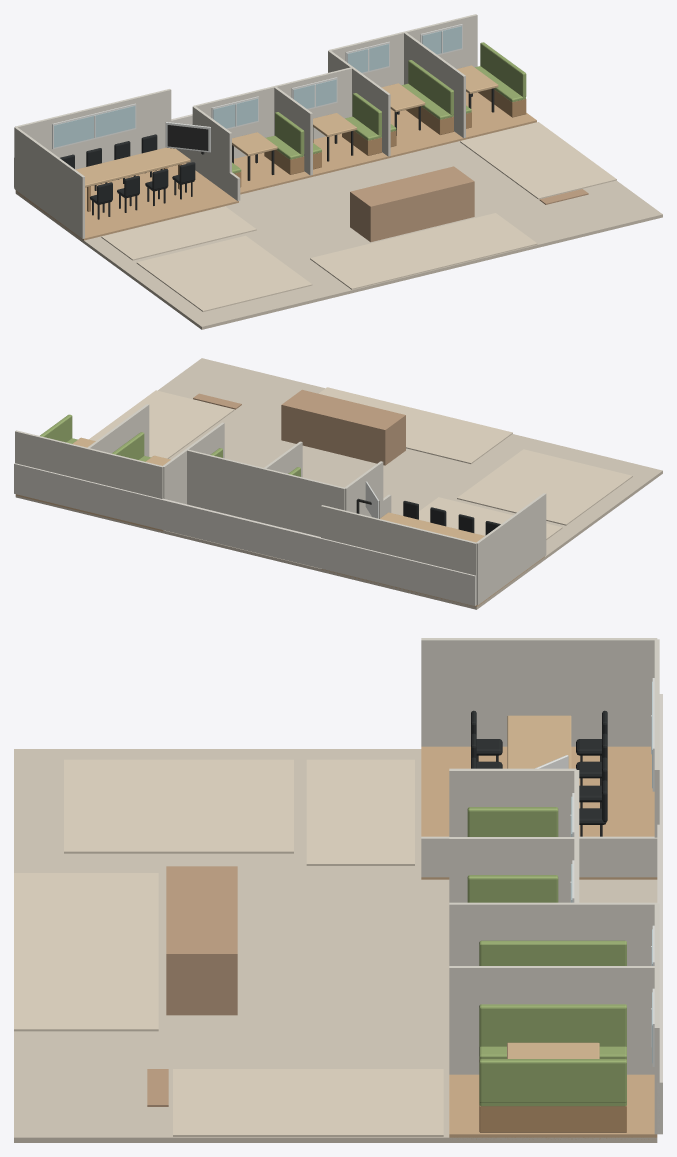
Rendered from daan.glb.
3 renders of one model, top to bottom at view 1: azimuth 30°, elevation 25°; view 2: azimuth 150°, elevation 25°; view 3: azimuth 270°, elevation 25°, orthographic. The views are drawn at different scales.
Parts seen in each view (by area): view 1: Common_floor, Tea_area, Office, Counter, Lounge, Floor.004, Left wall.004, Back wall.004, Service_area, Left wall, Meeting table, Left wall.003 (+30 smaller); view 2: Common_floor, Back_window_wall, Office, Counter, Back wall.004, Left wall.004, Tea_area, Back wall.002, Lounge, Back wall.003, Back wall.001, Back wall (+8 smaller); view 3: Common_floor, Tea_area, Left wall.004, Office, Lounge, Left wall, Service_area, Counter, Left wall.001, Floor.004, Green backrest.001, Green backrest (+16 smaller).
Part boxes in pixels (x1,y1,x2,y2): Common_floor: [15, 122, 662, 329]; Tea_area: [310, 213, 537, 289]; Office: [136, 235, 312, 311]; Counter: [350, 166, 474, 242]; Lounge: [460, 122, 616, 199]; Floor.004: [15, 163, 238, 240]; Left wall.004: [14, 127, 84, 238]; Back wall.004: [15, 89, 171, 169]; Service_area: [101, 206, 256, 260]; Left wall: [404, 32, 465, 138]; Meeting table: [76, 147, 190, 187]; Left wall.003: [192, 106, 231, 194]; Common_floor: [15, 358, 662, 609]; Back_window_wall: [14, 463, 476, 605]; Office: [457, 449, 632, 525]; Counter: [281, 389, 405, 465]; Back wall.004: [321, 505, 476, 575]; Left wall.004: [476, 493, 546, 605]; Tea_area: [319, 387, 512, 463]; Back wall.002: [187, 449, 264, 522]; Lounge: [89, 390, 234, 458]; Back wall.003: [263, 468, 344, 536]; Back wall.001: [87, 448, 163, 498]; Back wall: [15, 430, 87, 480]; Common_floor: [14, 749, 657, 1142]; Tea_area: [14, 873, 158, 1031]; Left wall.004: [421, 638, 657, 746]; Office: [64, 759, 293, 853]; Lounge: [173, 1069, 443, 1136]; Left wall: [449, 966, 657, 1074]; Service_area: [306, 759, 414, 865]; Counter: [166, 866, 237, 1015]; Left wall.001: [449, 902, 657, 965]; Floor.004: [421, 746, 657, 879]; Green backrest.001: [479, 1059, 626, 1102]; Green backrest: [479, 1004, 626, 1046].
Bounding box in the file's own units: 12.95 × 1.78 × 9.11.
